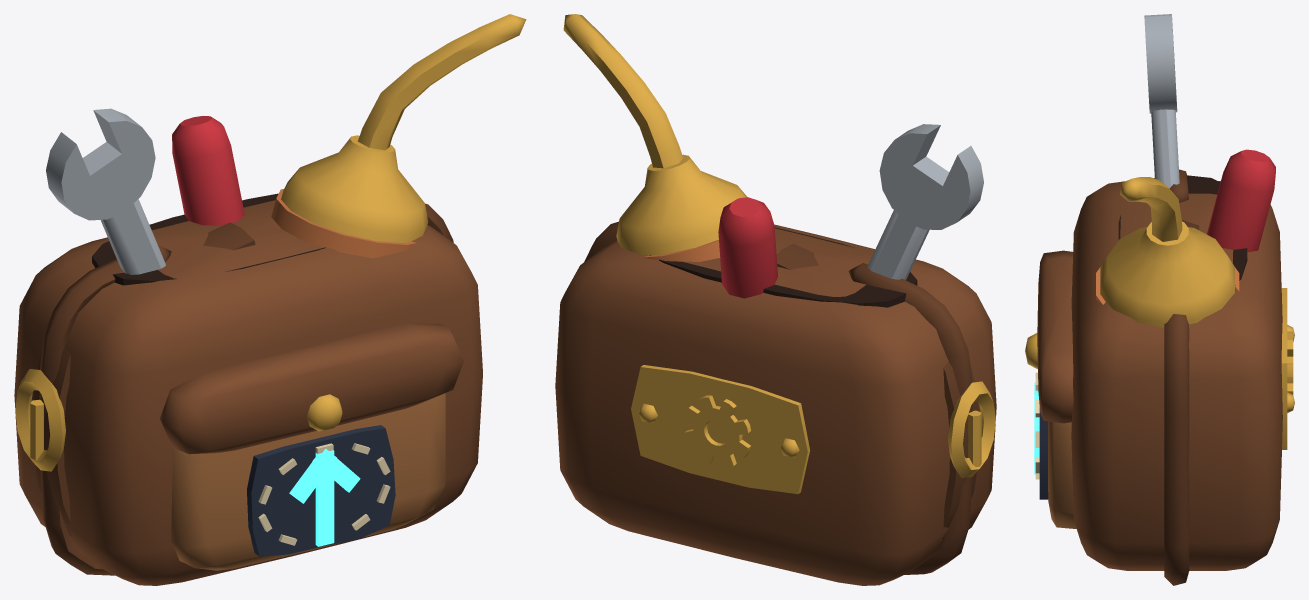
Rendered from item_repair_kit.glb.
3 views of the same model, side by side, from view 1: azimuth 30°, elevation 25°; view 2: azimuth 150°, elevation 25°; view 3: azimuth 270°, elevation 25° (orthographic). The views are drawn at different scales.
Parts seen in each view (by area): view 1: RepairKit; view 2: RepairKit; view 3: RepairKit.
Part boxes in pixels (bbox=[...]): RepairKit: bbox=[14, 14, 526, 585]; RepairKit: bbox=[555, 14, 996, 585]; RepairKit: bbox=[1025, 14, 1294, 585].
Size of the model in its own units: 0.3238 by 0.3267 by 0.176.
